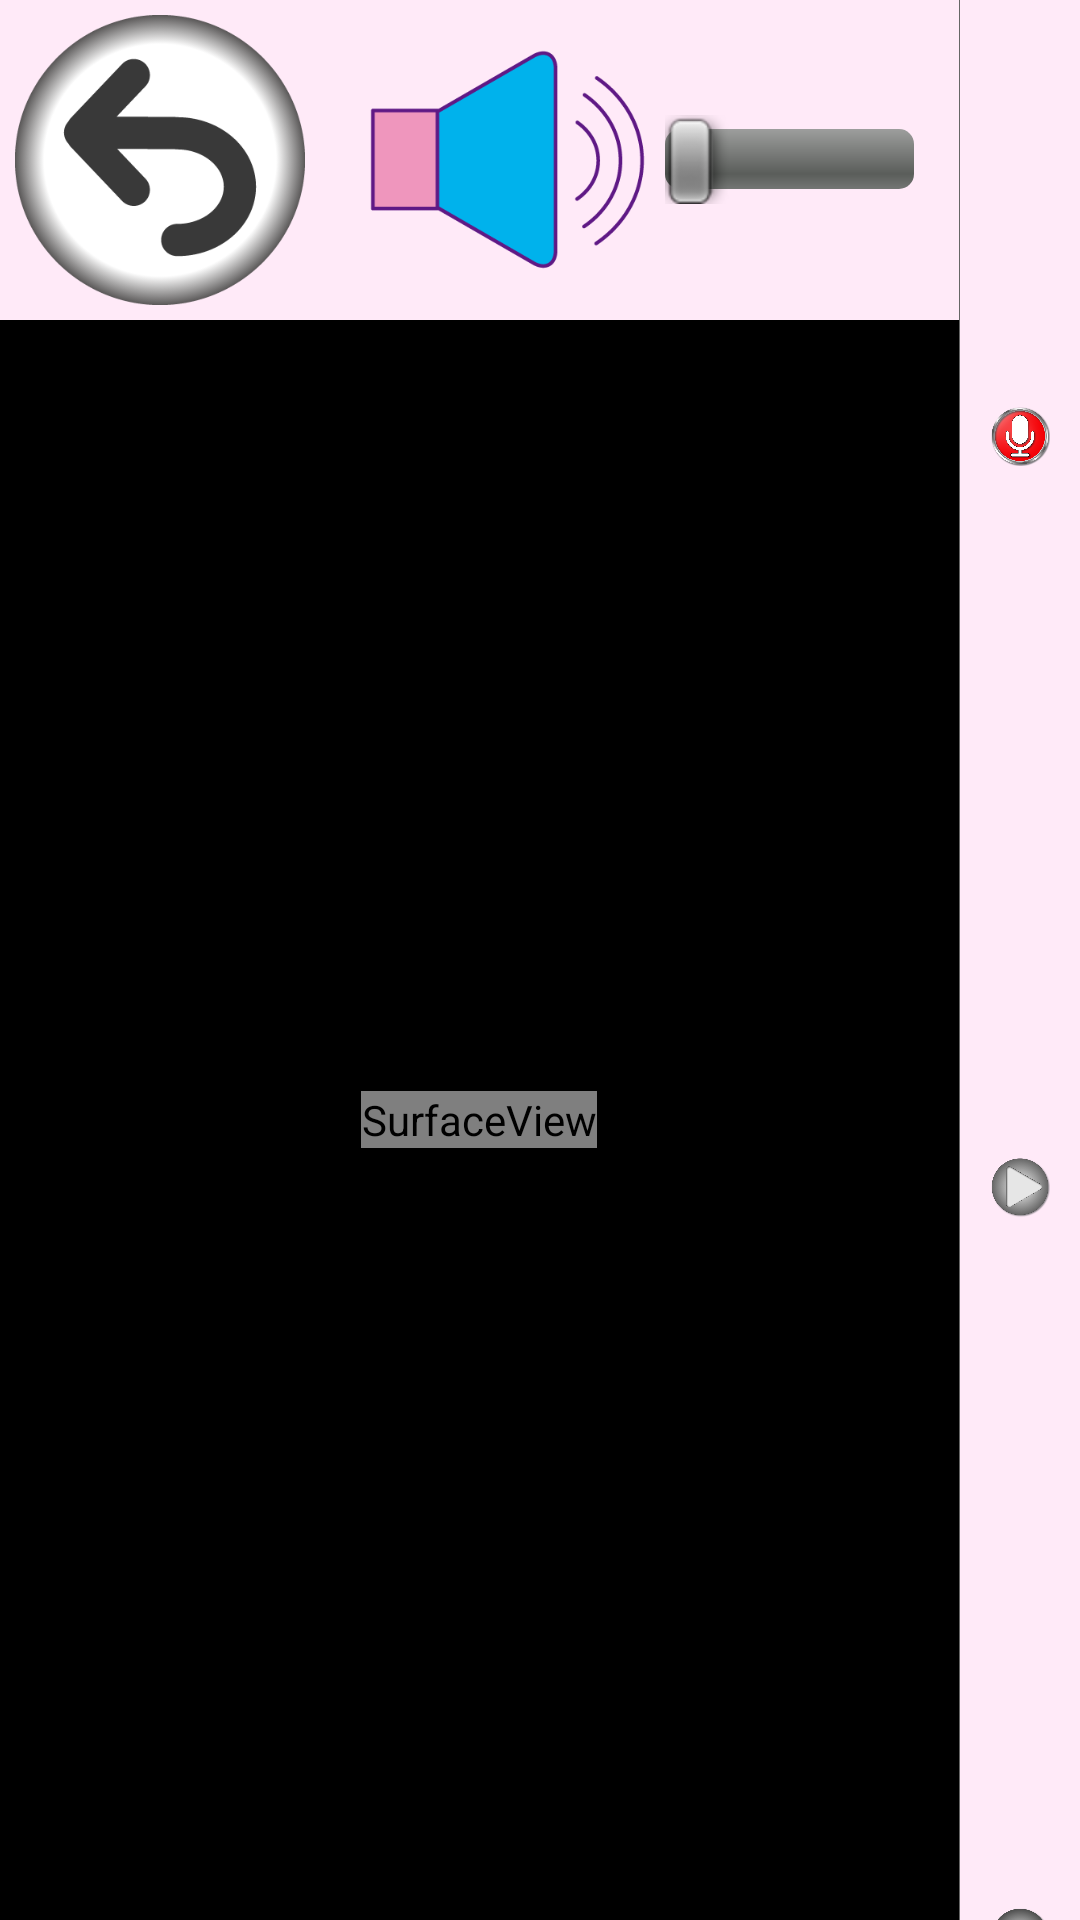

Point at icon controls on the screen. Image size 1080 x 1920, points as (x,y).
player record: (1021,437)
player start disactive: (1021,1187)
return: (160,160)
sound: (507,159)
